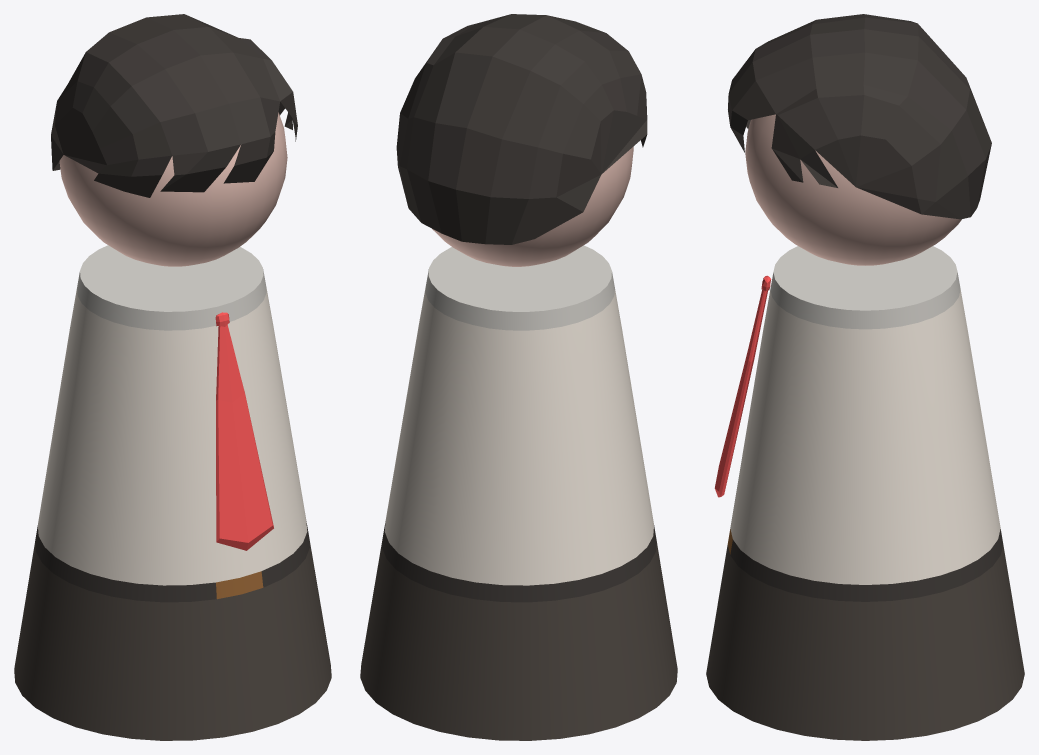
Rendered from char_officer.fbx.
The picture shows the model from 3 angles, left to right: view 1: azimuth 30°, elevation 25°; view 2: azimuth 150°, elevation 25°; view 3: azimuth 270°, elevation 25°; orthographic projection.
Parts seen in each view (by area): view 1: Body.008; view 2: Body.008; view 3: Body.008.
Boxes of the visible parts, <box> form: Body.008: <box>14,14,331,740</box>; Body.008: <box>360,14,677,740</box>; Body.008: <box>706,14,1024,740</box>.
Bounding box in the file's own units: 0.6921 × 1.55 × 0.6921.
